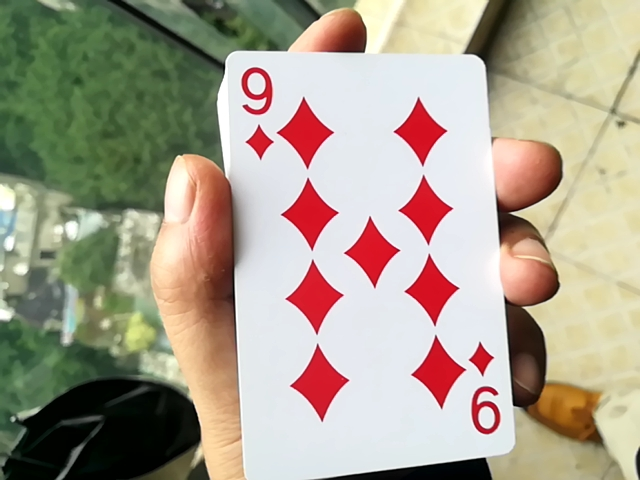fk 9: (206, 22, 506, 476)
